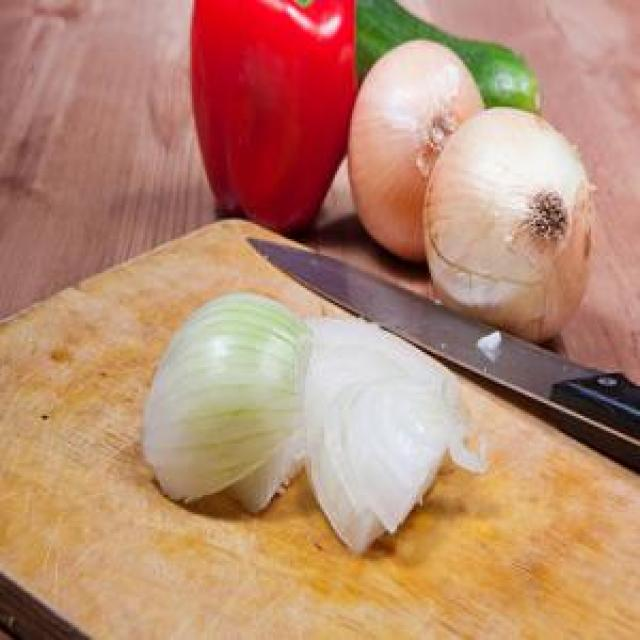knife: (243, 228, 638, 476)
